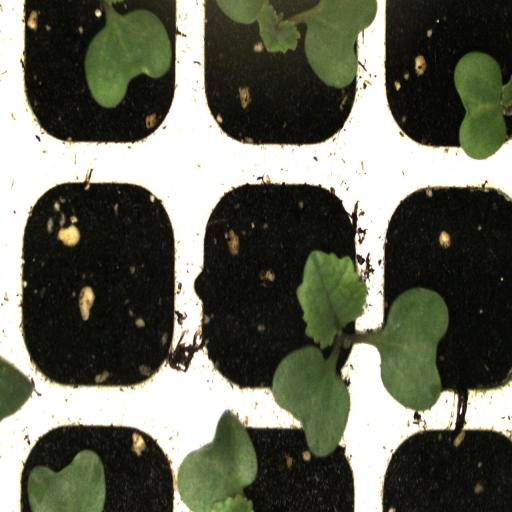Folha: (370, 287, 449, 413), (177, 414, 258, 512), (454, 51, 512, 160)
Germinacao: (190, 154, 376, 414), (189, 0, 375, 150)
